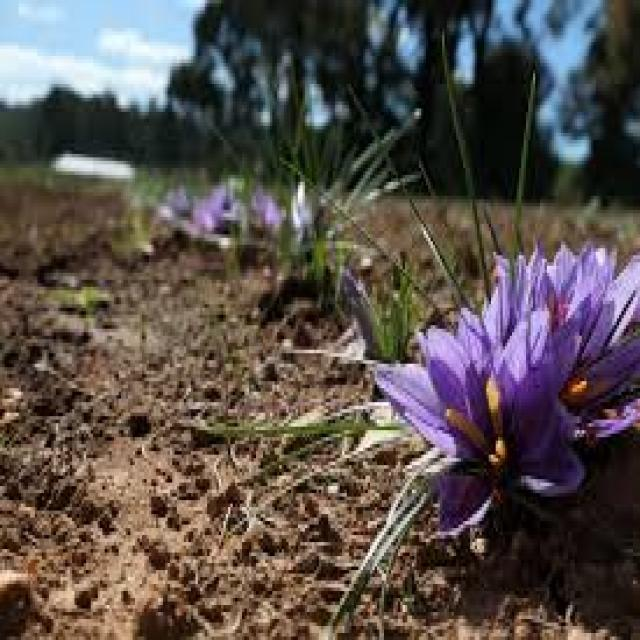Flower: (385, 318, 578, 536), (498, 220, 640, 460)
